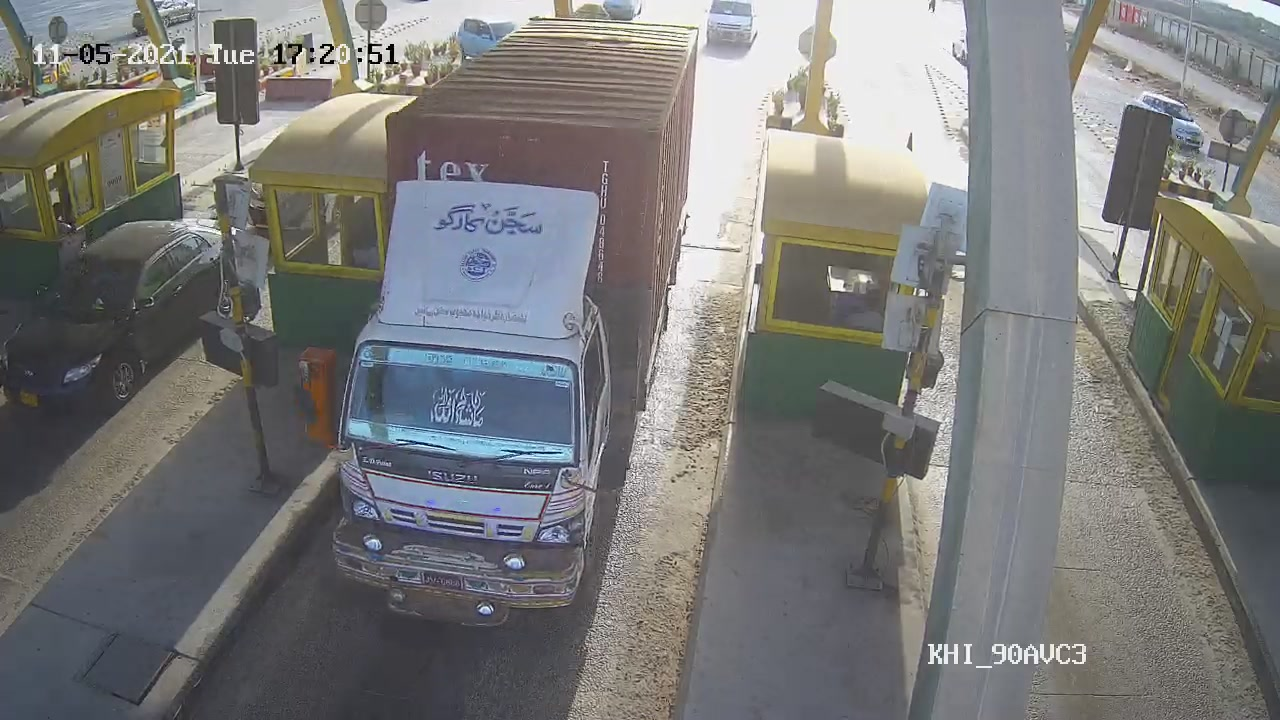F6: (341, 21, 705, 627)
